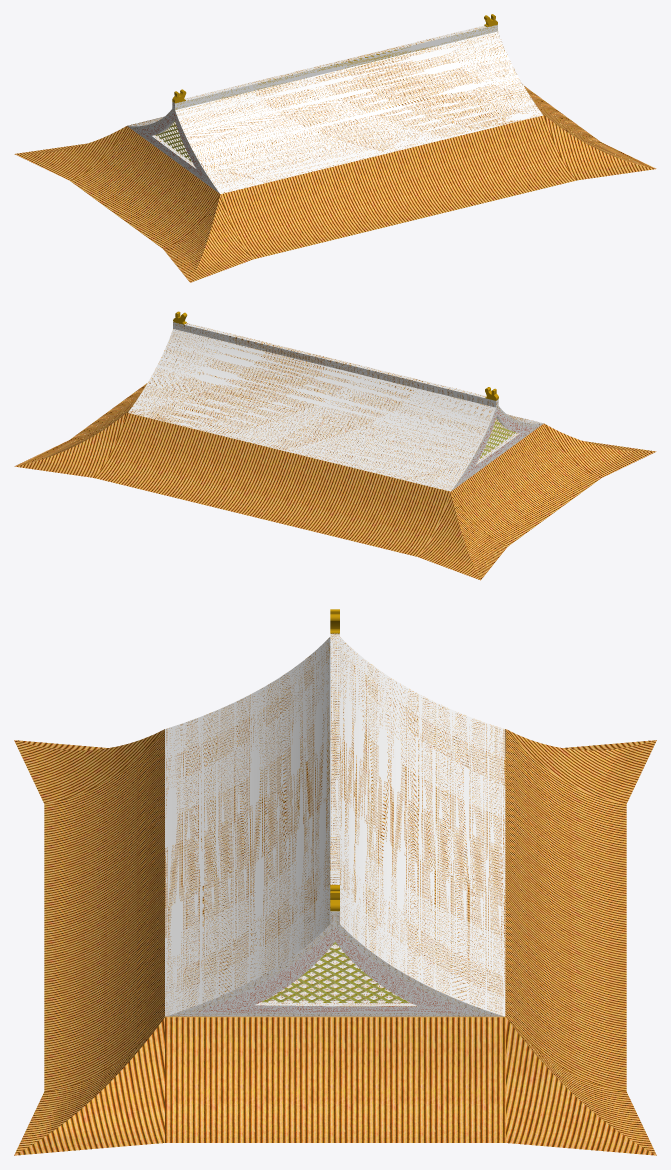
File: roof.dae
The picture shows the model from 3 angles, top to bottom: view 1: azimuth 30°, elevation 25°; view 2: azimuth 150°, elevation 25°; view 3: azimuth 270°, elevation 25°; orthographic projection. The views are drawn at different scales.
Visible parts, largest first — view 1: roof01_2, roof03_1 (×4); view 2: roof01_2, roof03_1 (×3); view 3: roof01_2 (×2), roof03_1 (×3).
Part boxes in pixels (x1,y1,x2,y2): roof01_2: (14,86,656,282); roof03_1 (×4): (127,24,543,193); roof01_2: (14,383,656,580); roof03_1 (×3): (128,322,543,491); roof01_2 (×2): (14,729,656,1155); roof03_1 (×3): (165,633,505,1016).
Size of the model in its own units: 1909 by 1248 by 430.
Materials: 6 (3 with a texture image).
